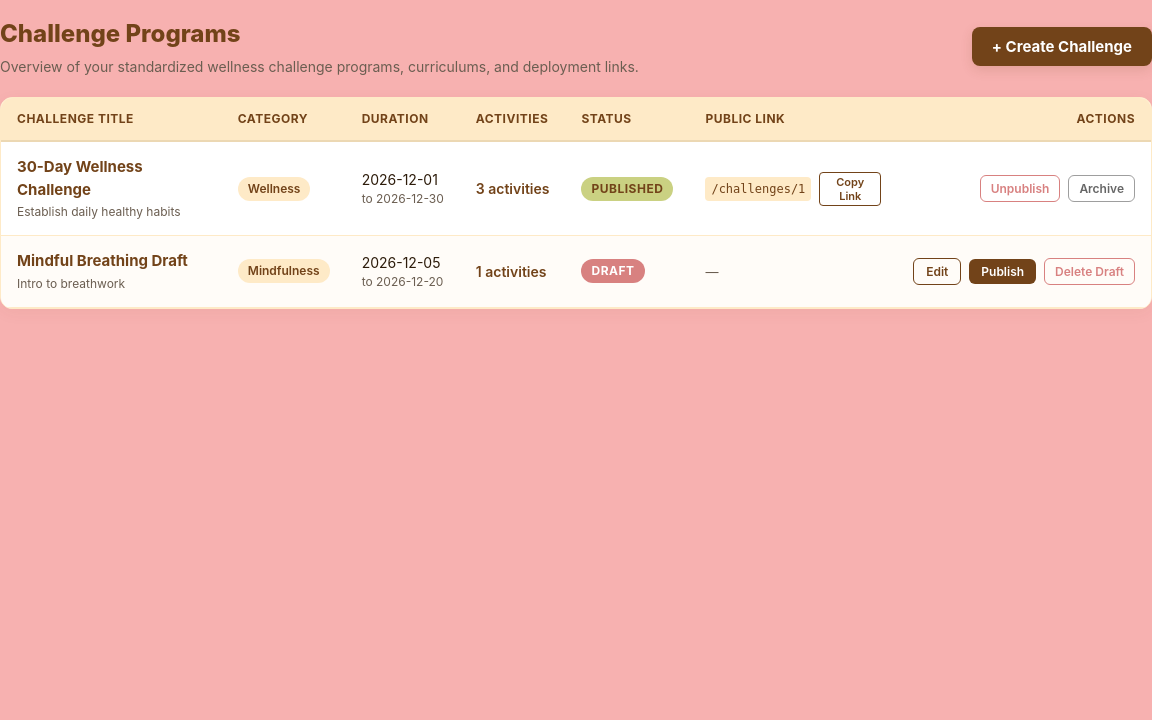
Scenario: Program Builder Component (UI-07) › confirms and deletes a draft challenge from the table
Later steps or results of the test are not shown.
Check: the text "Mindful Breathing Draft" is shown, box x1=17 y1=250 x2=206 y2=272
Note: Click Delete Draft button on draft row
Click the button "Delete Draft".
click(1090, 271)  # box x1=1044 y1=258 x2=1135 y2=285
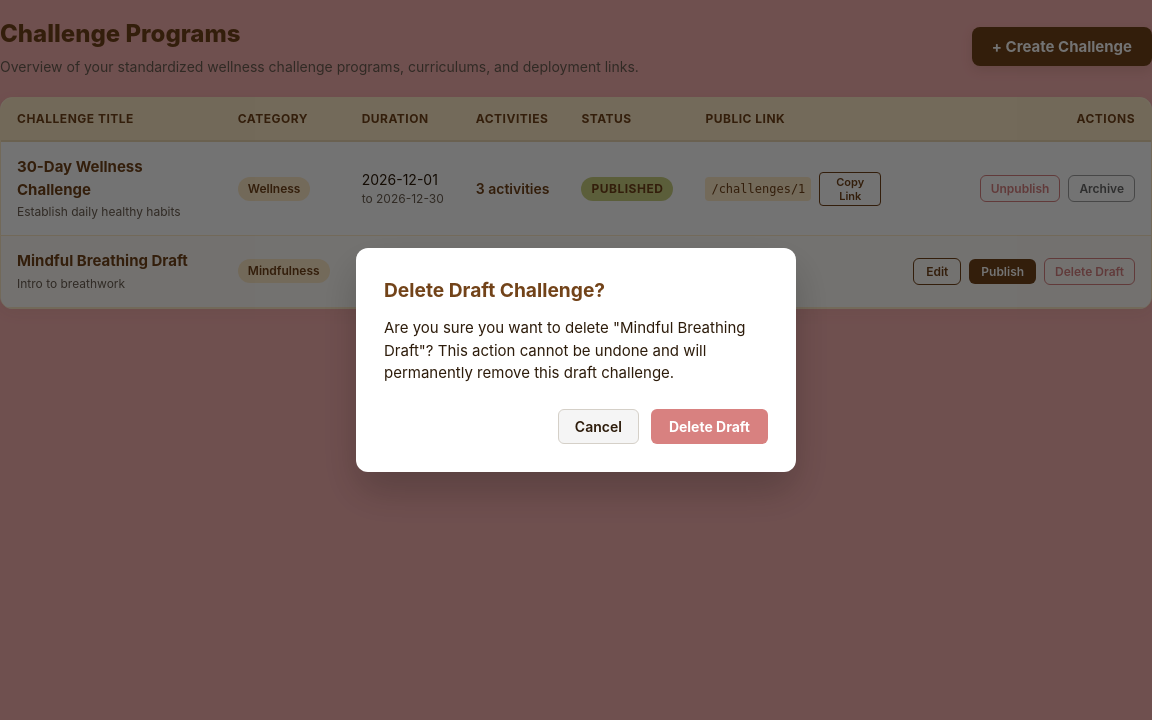
Check: the heading "Delete Draft Challenge?" is shown, box x1=384 y1=278 x2=605 y2=302
Check: the text "This action cannot be undone" is shown, box x1=384 y1=318 x2=746 y2=382
